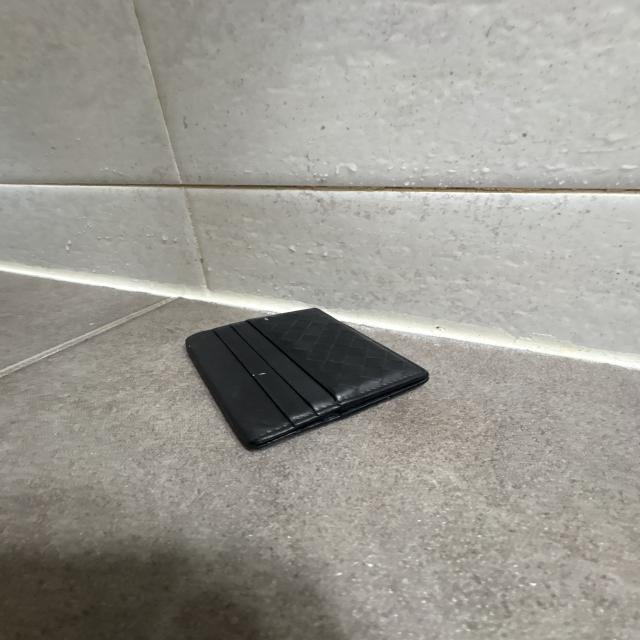wallet: (186, 306, 432, 454)
